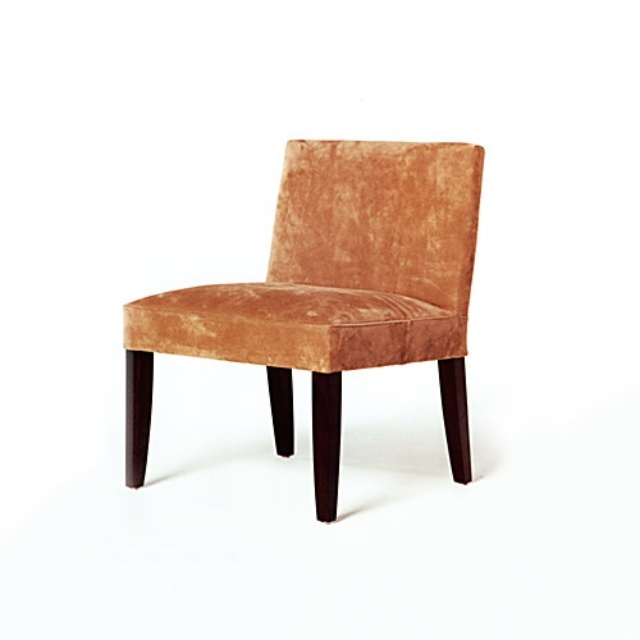obstacle: (124, 140, 483, 521)
